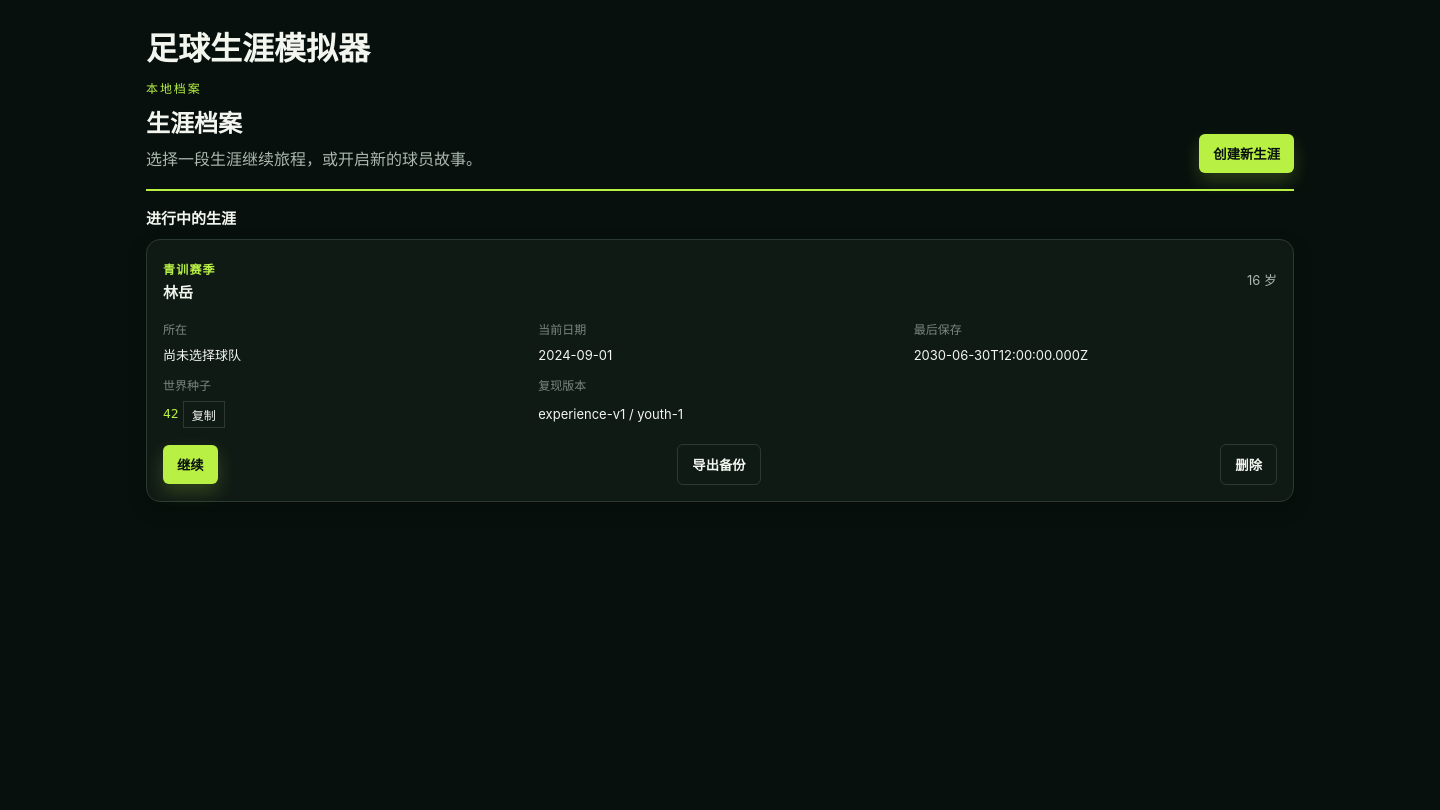
App › discards a failed career commit before starting an in-memory career
Step 1. Click the button with aria-label "继续林岳的生涯" → [190, 464], box top-left (163, 444), bottom-right (218, 484)
(page scrolled)
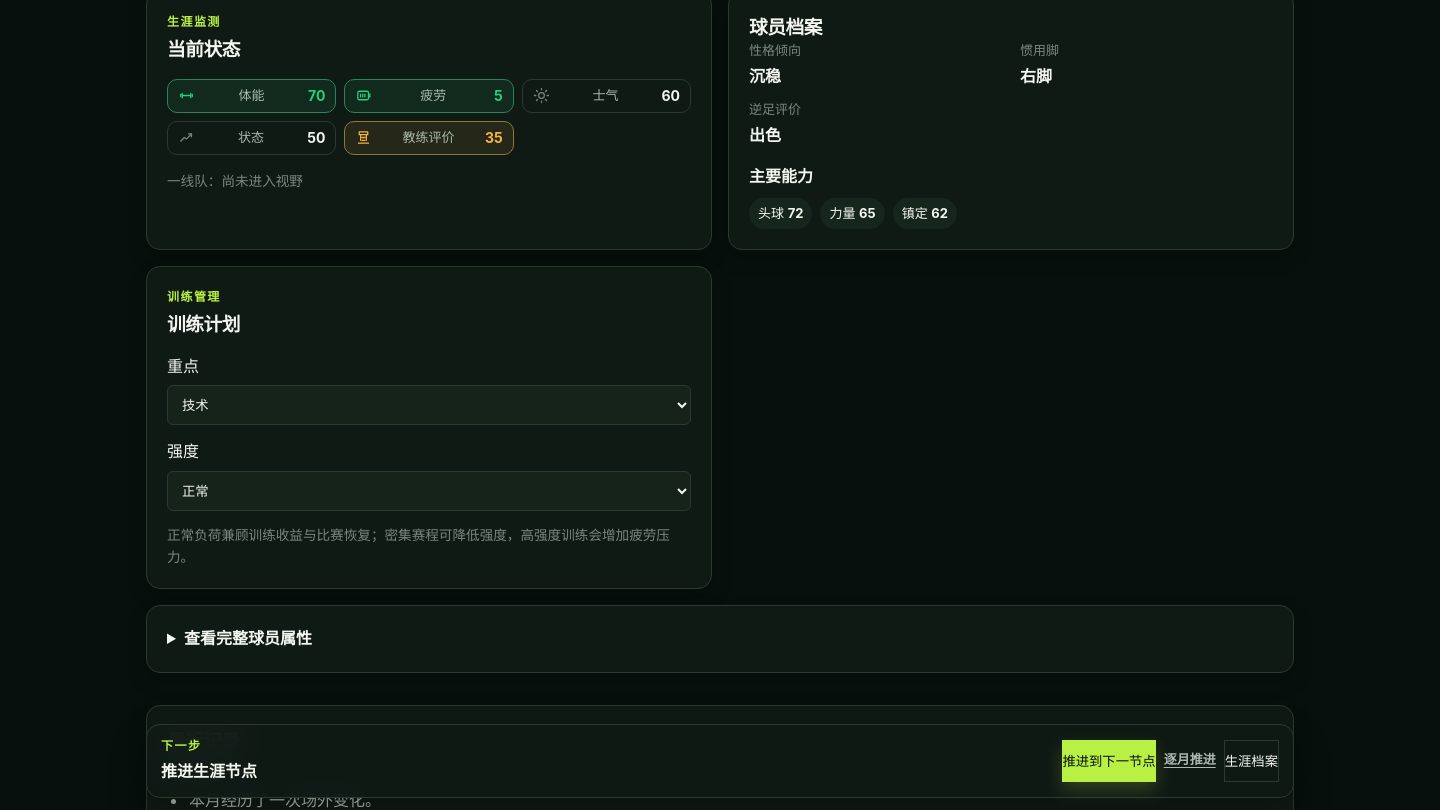
Step 2. Select "身体" in the dropdown named "训练重点" → [429, 405], box top-left (167, 385), bottom-right (691, 425)
Step 3. Click the button "生涯档案" → [1251, 761], box top-left (1224, 740), bottom-right (1279, 782)
(page scrolled)
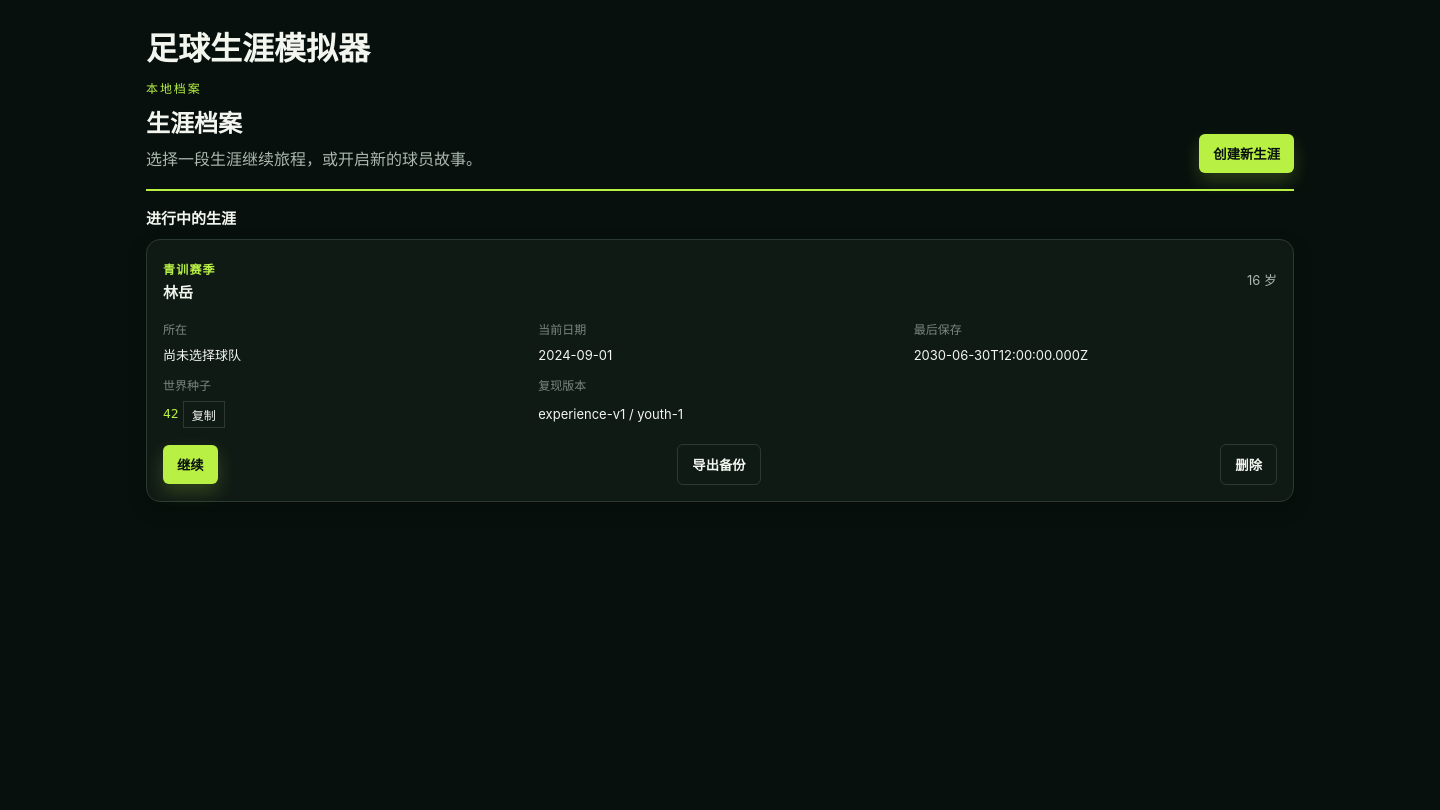
Step 4. Click the button "创建新生涯" → [1247, 153], box top-left (1199, 134), bottom-right (1294, 173)
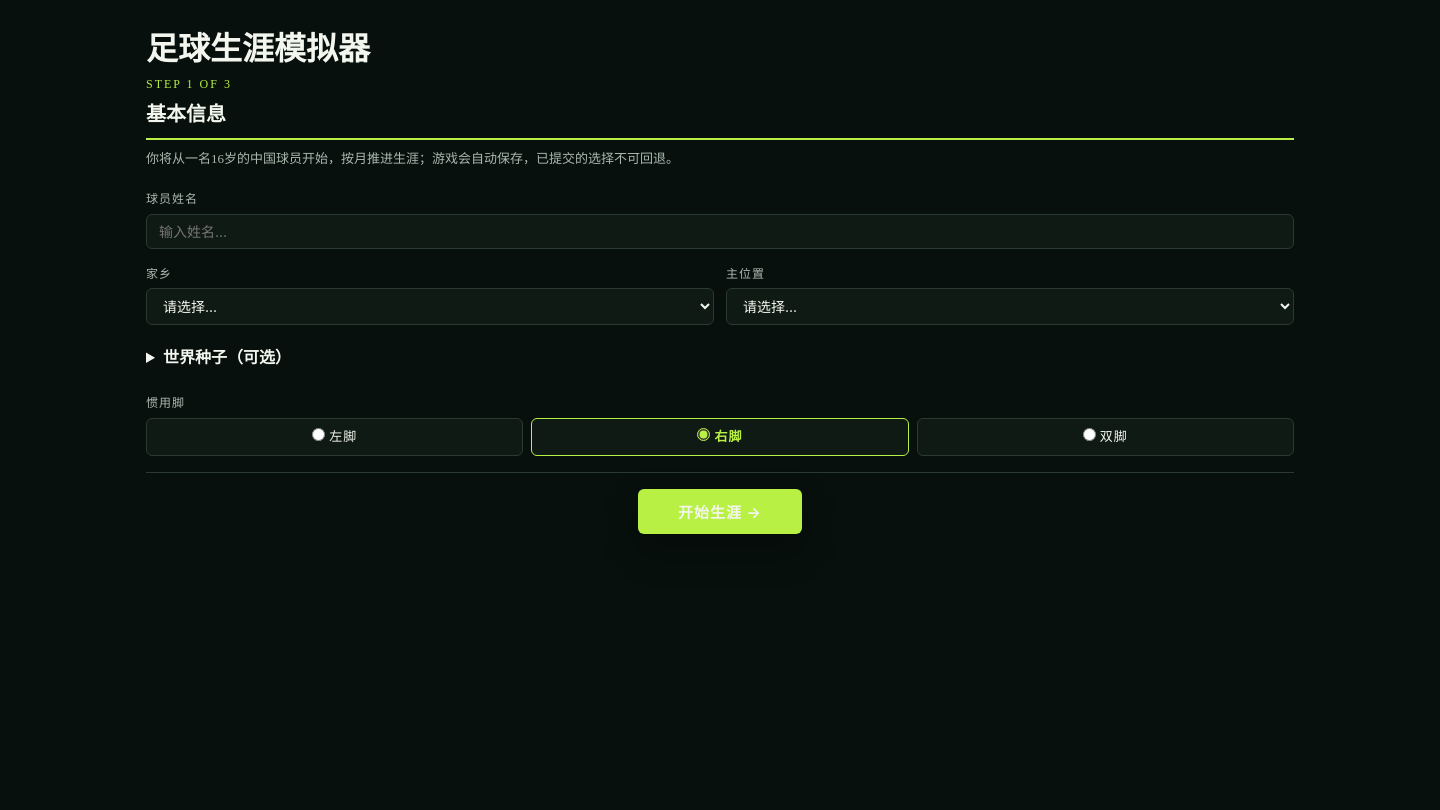
Expected: the field labelled "球员姓名" is shown, top-left (146, 214), bottom-right (1294, 249)
